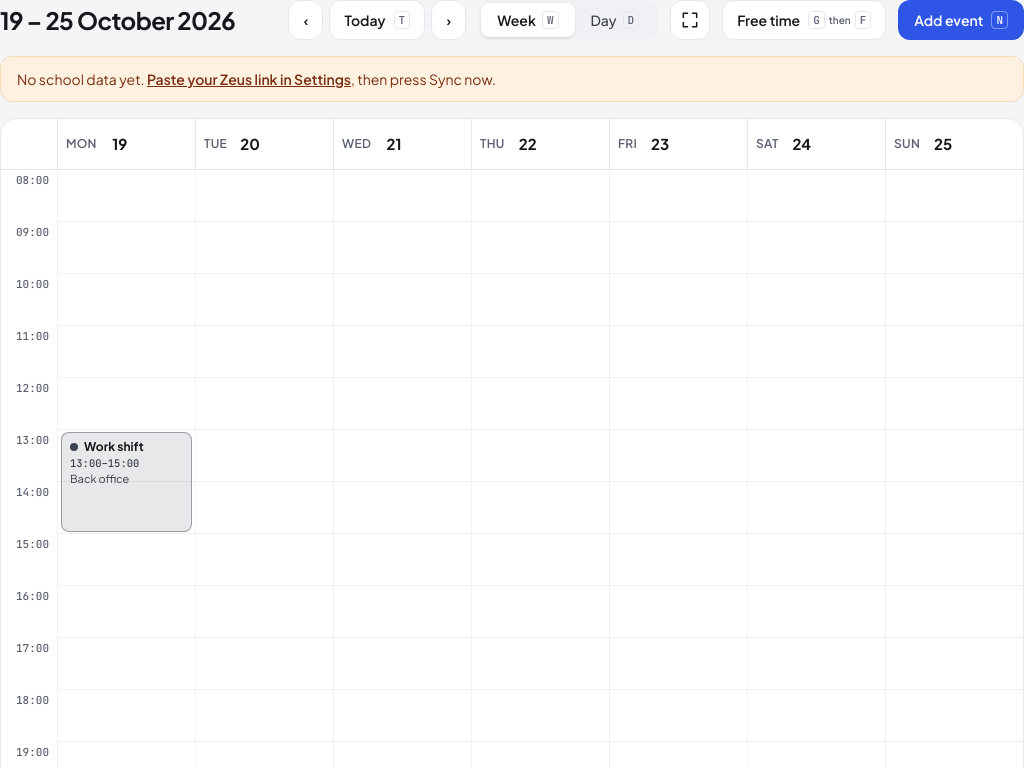
Scenario: CalendarPage popups › creating shows a toast and the new event
Click the button "Add event N" at [961, 20], box [898, 0, 1023, 40]
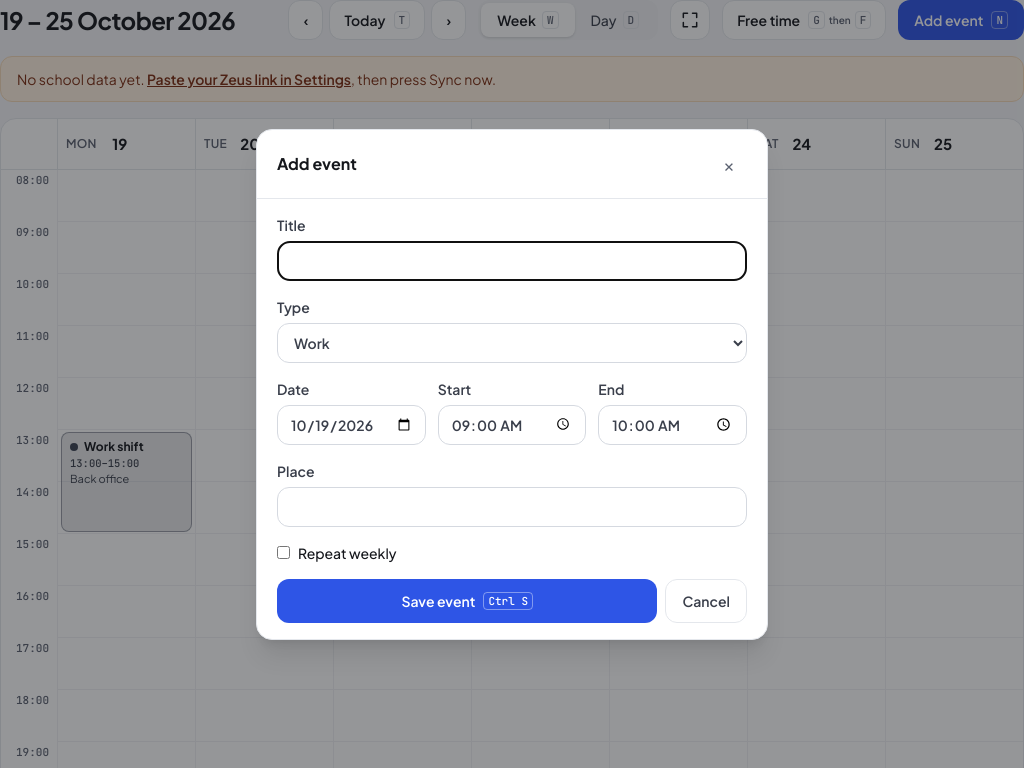
Type "Gym" into the field labelled "Title" at [512, 260], box [277, 240, 747, 280]
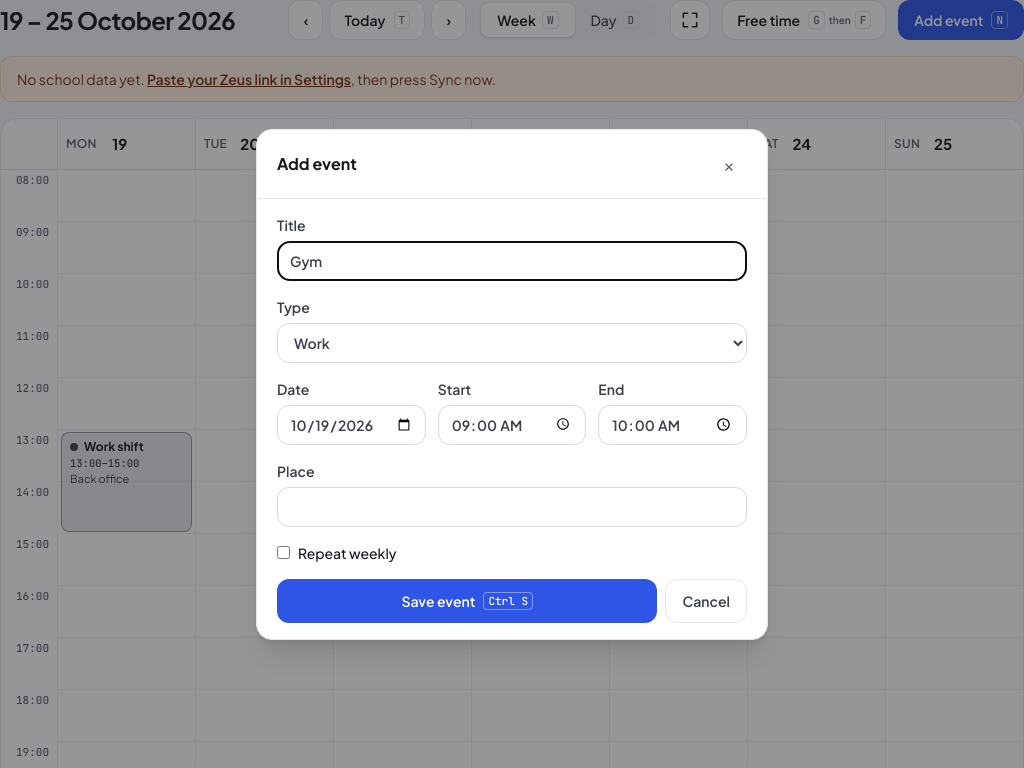
Click the button "Save event Ctrl S" at [467, 600], box [277, 578, 658, 622]
(page scrolled)
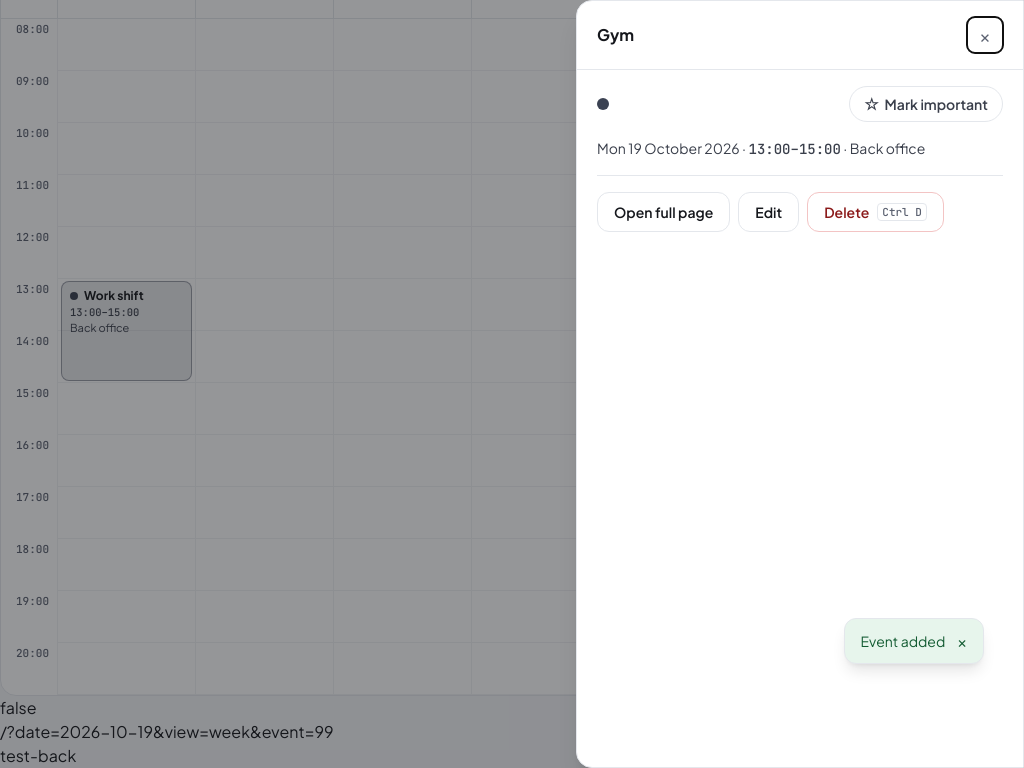
Now the text "Event added" is shown, box [860, 631, 945, 651]
Now the text with test id "where" shows "event=99", box [0, 721, 334, 742]
Now the dialog "Gym" is shown, box [576, 0, 1023, 767]
